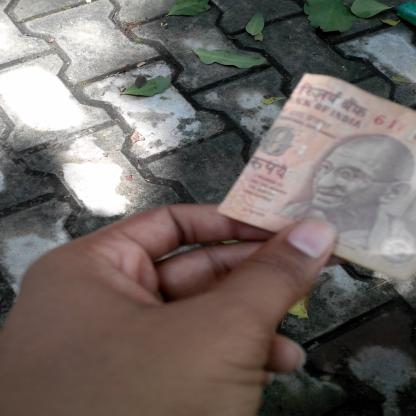Old10Front: (217, 72, 416, 279)
